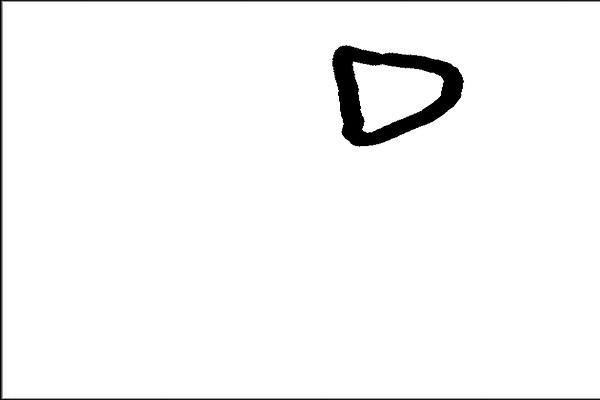D: (324, 40, 469, 150)
